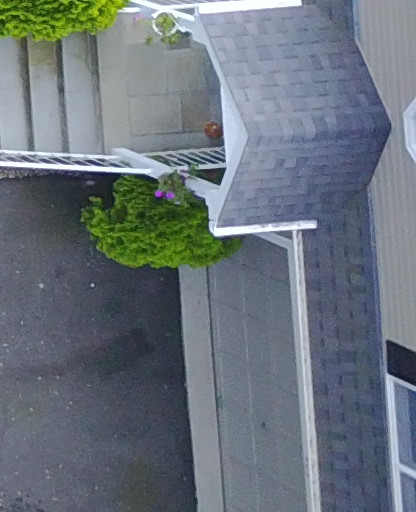container: (205, 113, 227, 155)
flower pot: (147, 11, 192, 46)
